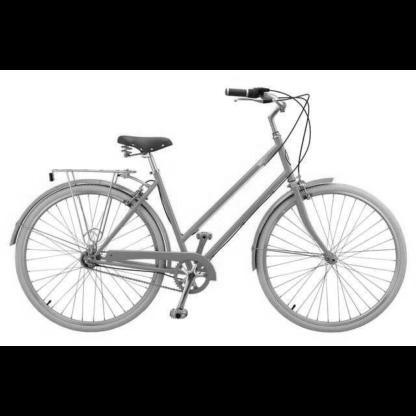Bicycle: (0, 76, 414, 338)
